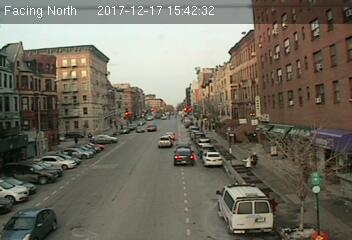car: (173, 145, 195, 168), (203, 151, 223, 166), (157, 135, 173, 149)
police: (213, 181, 274, 232)
